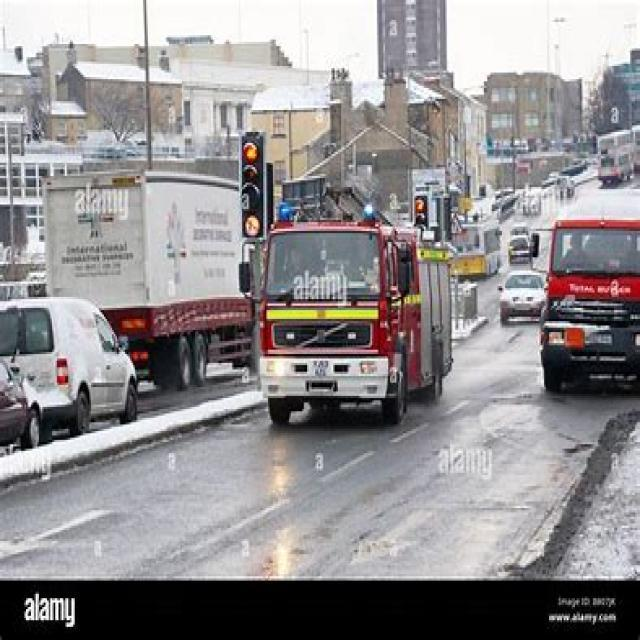Fire-engine: (244, 173, 454, 424), (538, 215, 638, 394)
